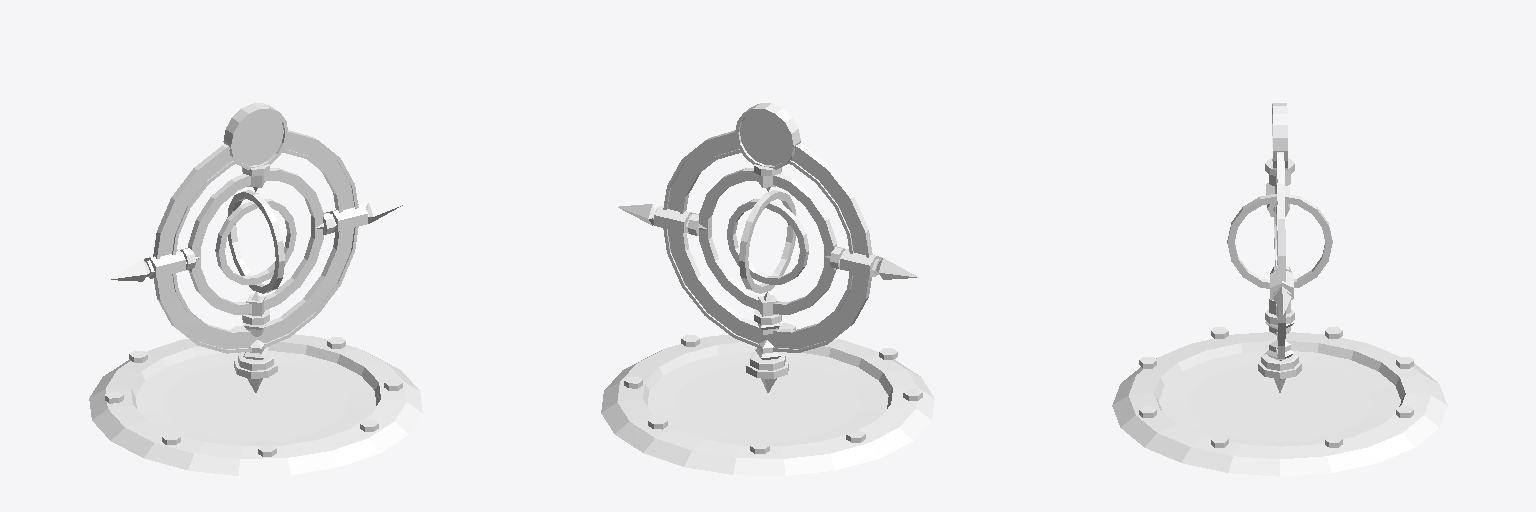
The model's file is gater2.obj.
3 renders of one model, left to right at view 1: azimuth 30°, elevation 25°; view 2: azimuth 150°, elevation 25°; view 3: azimuth 270°, elevation 25°, orthographic.
Parts seen in each view (by area): view 1: Object_14, Object, Object_4, Object_2, Object_3, Object_1; view 2: Object_14, Object, Object_4, Object_2, Object_3, Object_1; view 3: Object, Object_4, Object_14, Object_2, Object_1.
Boxes of the visible parts, x1=… form: Object_14: x1=108, y1=103, x2=404, y2=392; Object: x1=89, y1=334, x2=422, y2=475; Object_4: x1=163, y1=364, x2=348, y2=440; Object_2: x1=227, y1=190, x2=284, y2=293; Object_3: x1=215, y1=199, x2=296, y2=284; Object_1: x1=105, y1=326, x2=402, y2=456; Object_14: x1=618, y1=103, x2=918, y2=392; Object: x1=601, y1=334, x2=934, y2=475; Object_4: x1=675, y1=364, x2=860, y2=441; Object_2: x1=739, y1=190, x2=795, y2=293; Object_3: x1=727, y1=199, x2=808, y2=284; Object_1: x1=624, y1=323, x2=922, y2=453; Object: x1=1112, y1=332, x2=1447, y2=476; Object_4: x1=1187, y1=364, x2=1373, y2=441; Object_14: x1=1258, y1=103, x2=1301, y2=392; Object_2: x1=1227, y1=194, x2=1332, y2=288; Object_1: x1=1139, y1=327, x2=1413, y2=447.
Size of the model in its own units: 5.52 by 5.26 by 5.34.